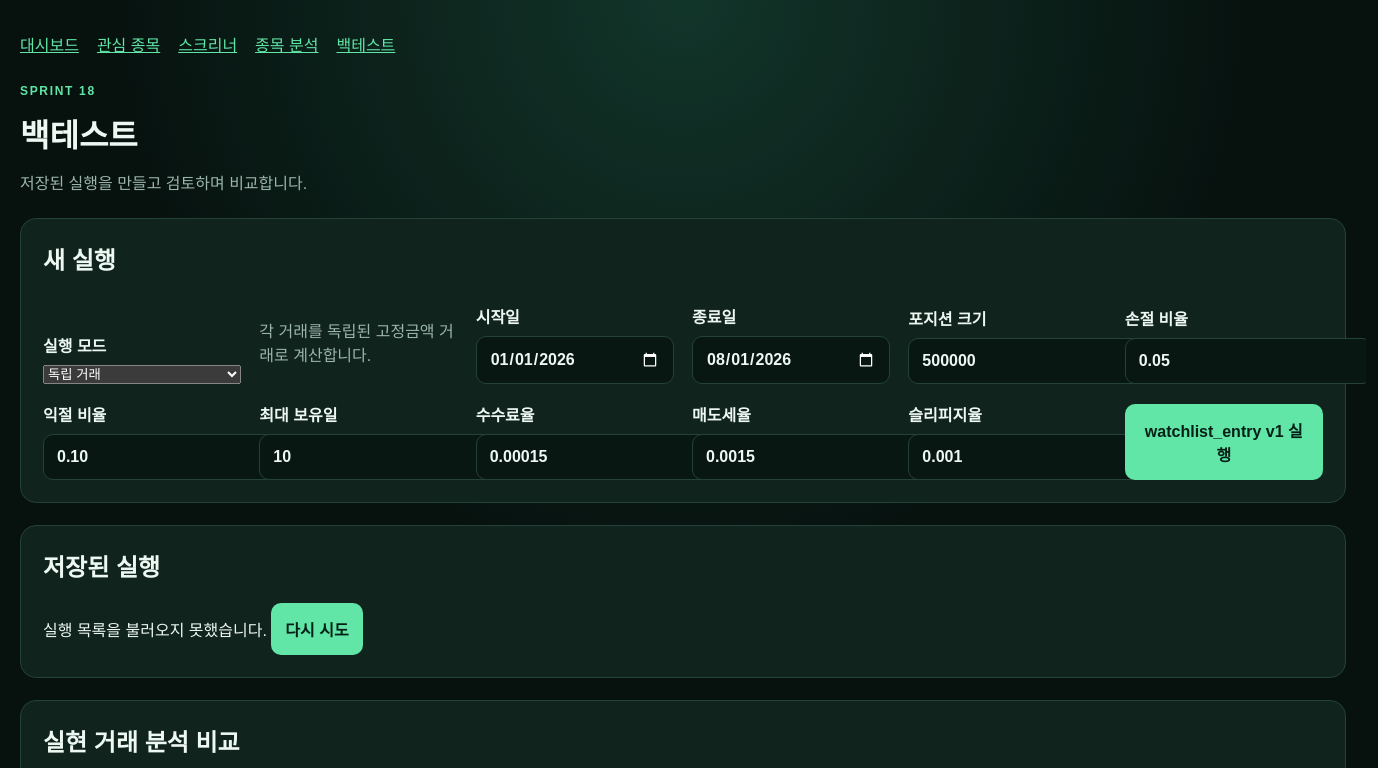
Scenario: run list and details › renders empty and retries errors
This screenshot has width=1378, height=768.
Click the button "다시 시도" at (317, 629), box [271,603,363,655]
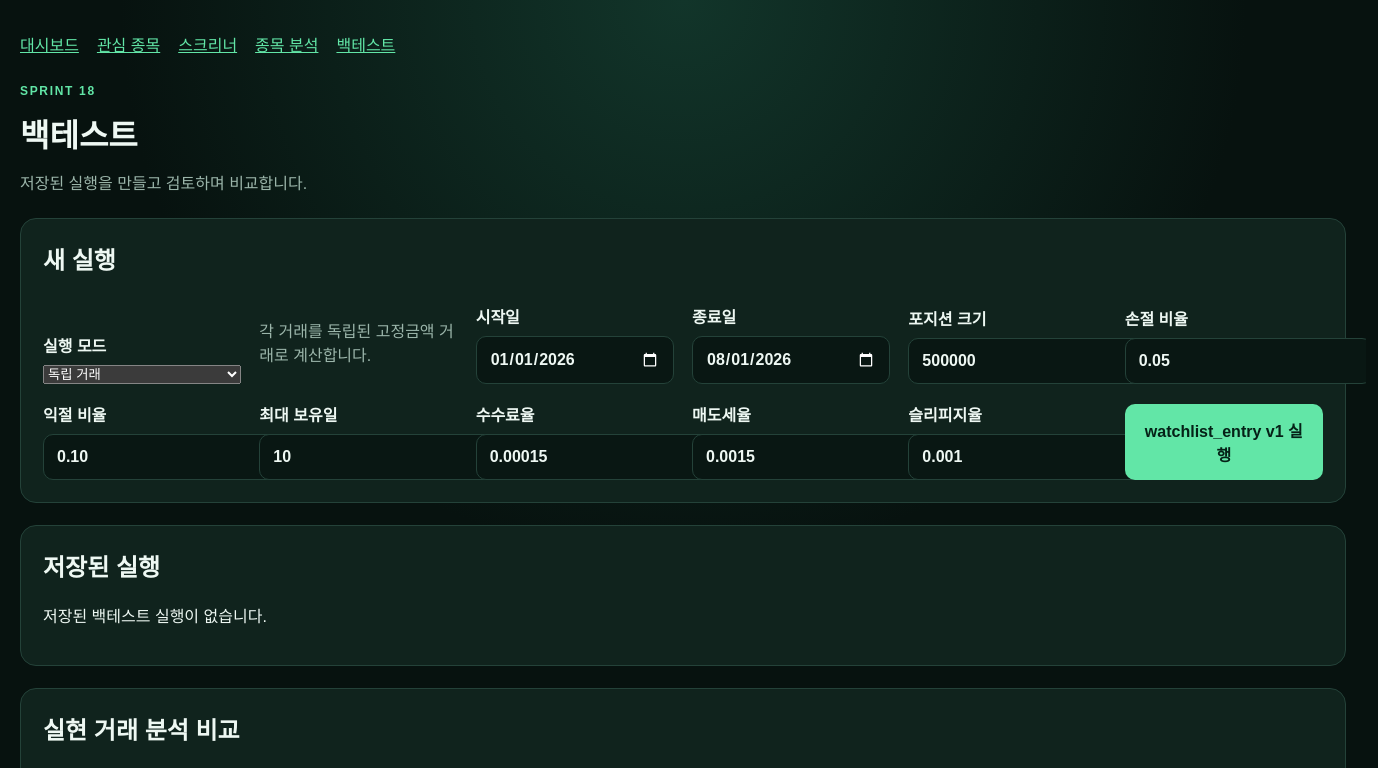
expect the text "저장된 백테스트 실행이 없습니다." is shown: met, box [43,608,267,625]
